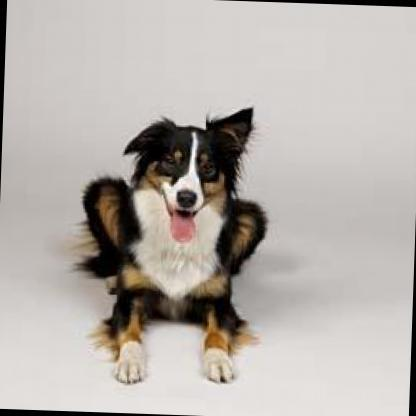Border_collie: (61, 95, 275, 386)
